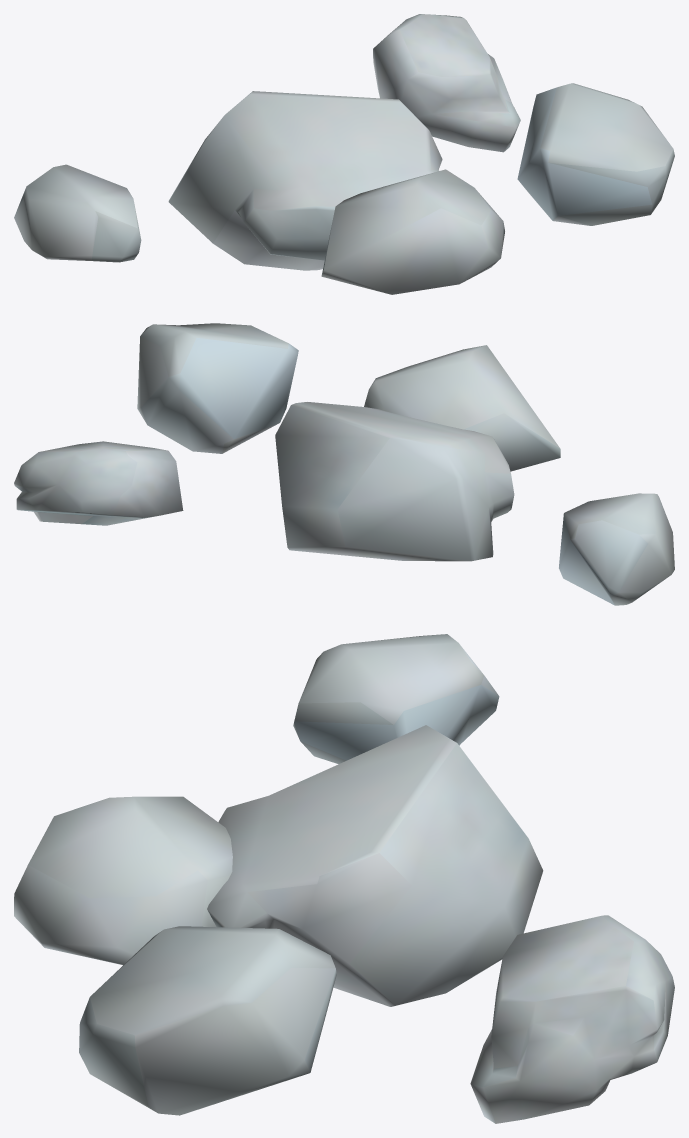
File: P_RockSpire_RockClump02.obj
The picture shows the model from 3 angles, top to bottom: view 1: azimuth 30°, elevation 25°; view 2: azimuth 150°, elevation 25°; view 3: azimuth 270°, elevation 25°; orthographic projection. The views are drawn at different scales.
Bounding box in the file's own units: 5.18 × 1.3 × 3.71.
